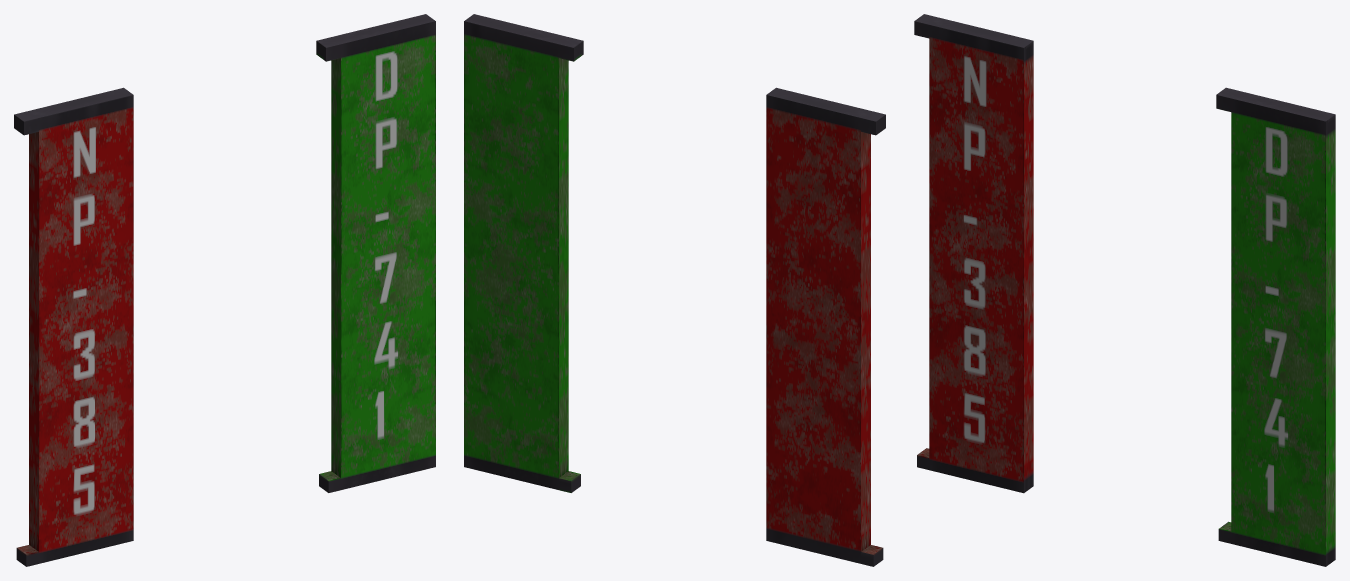
The model's file is sign_num.fbx.
The picture shows the model from 3 angles, left to right: view 1: azimuth 30°, elevation 25°; view 2: azimuth 150°, elevation 25°; view 3: azimuth 330°, elevation 25°; orthographic projection.
Visible parts, largest first — view 1: NP-385, DP-741; view 2: NP-385, DP-741; view 3: DP-741, NP-385.
Boxes of the visible parts, bbox=[...] form: NP-385: bbox=[14, 87, 133, 566]; DP-741: bbox=[316, 14, 435, 492]; NP-385: bbox=[766, 87, 885, 566]; DP-741: bbox=[464, 14, 583, 492]; DP-741: bbox=[1216, 87, 1335, 566]; NP-385: bbox=[914, 14, 1033, 493].
Size of the model in its own units: 196 by 203 by 8.1.
1 material, 1 textured.
